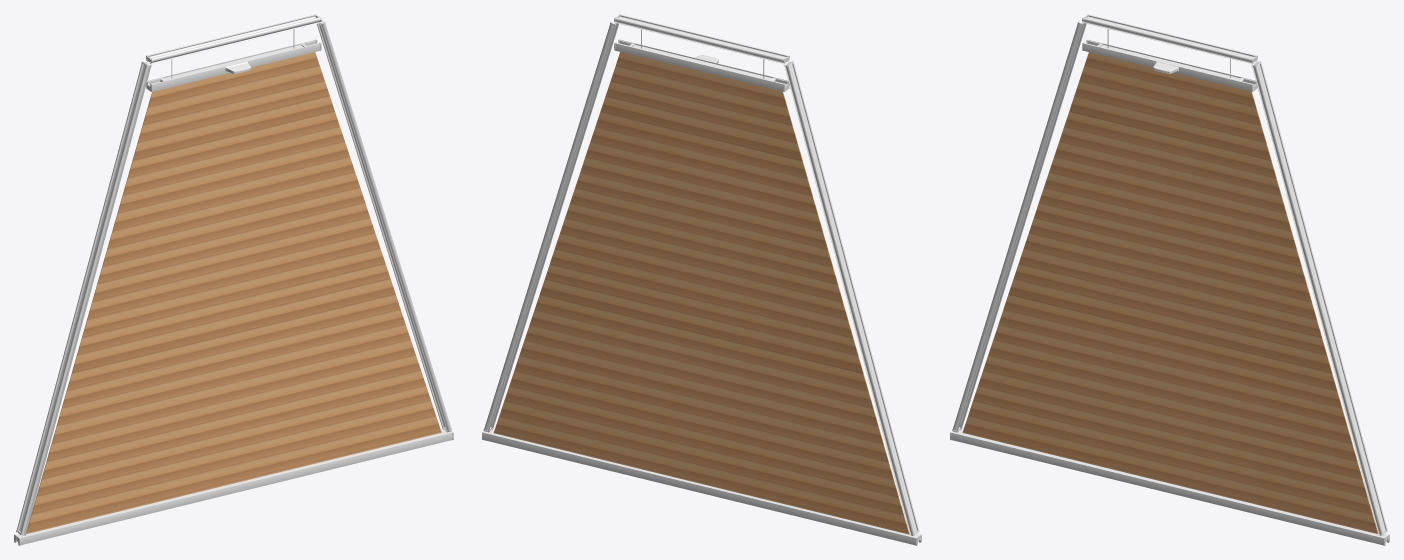
3 views of the same model, side by side, from view 1: azimuth 30°, elevation 25°; view 2: azimuth 150°, elevation 25°; view 3: azimuth 330°, elevation 25° (orthographic).
Visible parts, largest first — view 1: Plane.002, Cube.002, Cube.011, Cube.006, Cube.001, Cube.005; view 2: Plane.002, Cube.002, Cube.011, Cube.006, Cube.001, Cube.005; view 3: Plane.002, Cube.006, Cube.011, Cube.002, Cube.001, Cube.005.
Boxes of the visible parts, x1,y1,x2,y2 form: Plane.002: [26, 52, 441, 533]; Cube.002: [17, 63, 150, 533]; Cube.011: [16, 429, 452, 545]; Cube.006: [316, 23, 451, 430]; Cube.001: [148, 40, 320, 91]; Cube.005: [148, 14, 320, 63]; Plane.002: [493, 52, 909, 534]; Cube.002: [785, 63, 918, 534]; Cube.011: [483, 429, 919, 545]; Cube.006: [484, 23, 618, 431]; Cube.001: [615, 40, 787, 91]; Cube.005: [615, 14, 787, 63]; Plane.002: [962, 52, 1378, 534]; Cube.006: [1252, 63, 1387, 533]; Cube.011: [951, 430, 1387, 545]; Cube.002: [953, 23, 1086, 431]; Cube.001: [1083, 40, 1255, 91]; Cube.005: [1083, 14, 1255, 63].
Size of the model in its own units: 0.9995 by 0.9991 by 0.0476.
6 materials, 1 textured.
